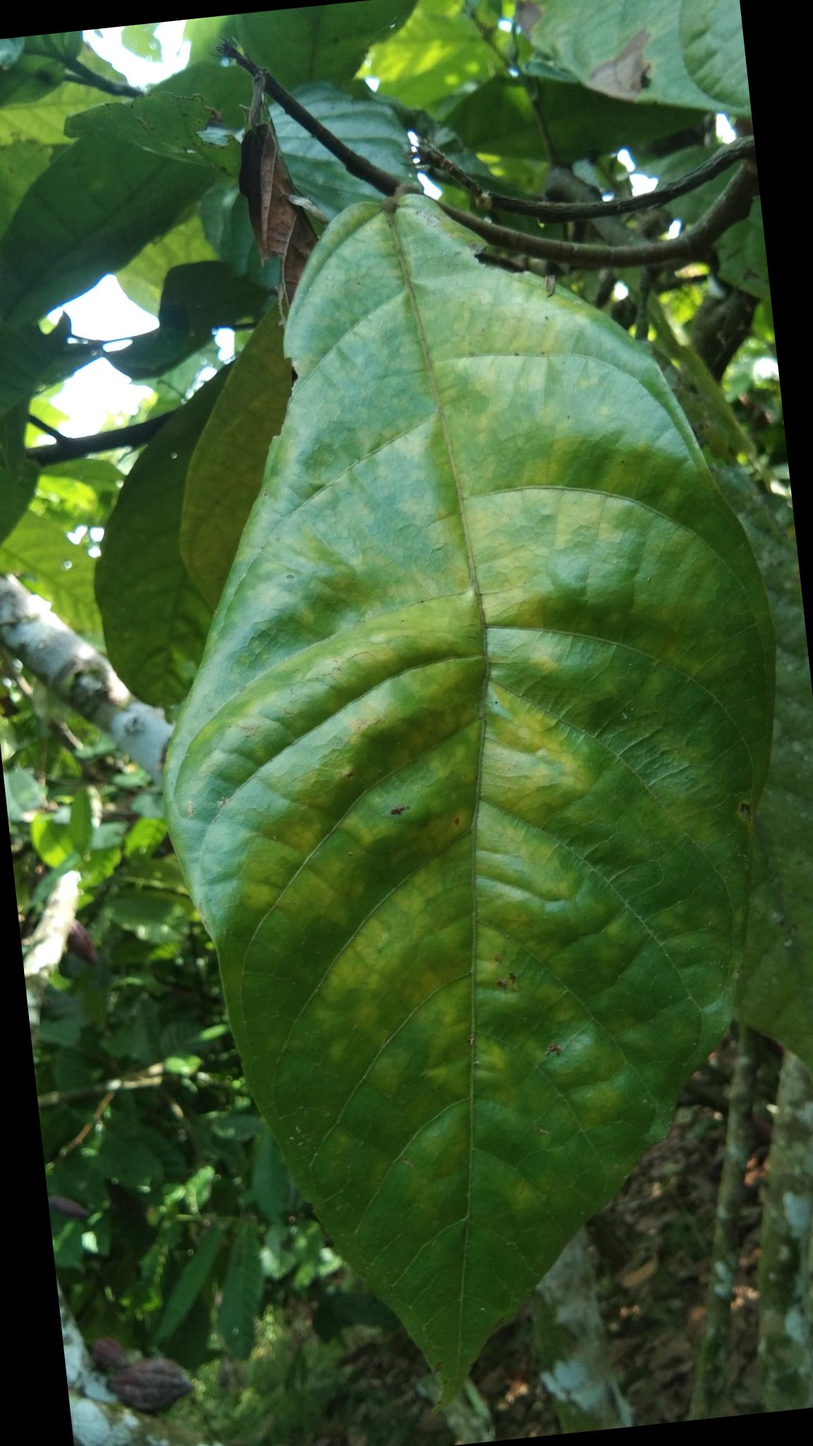Fosforo: (178, 178, 778, 1403)
